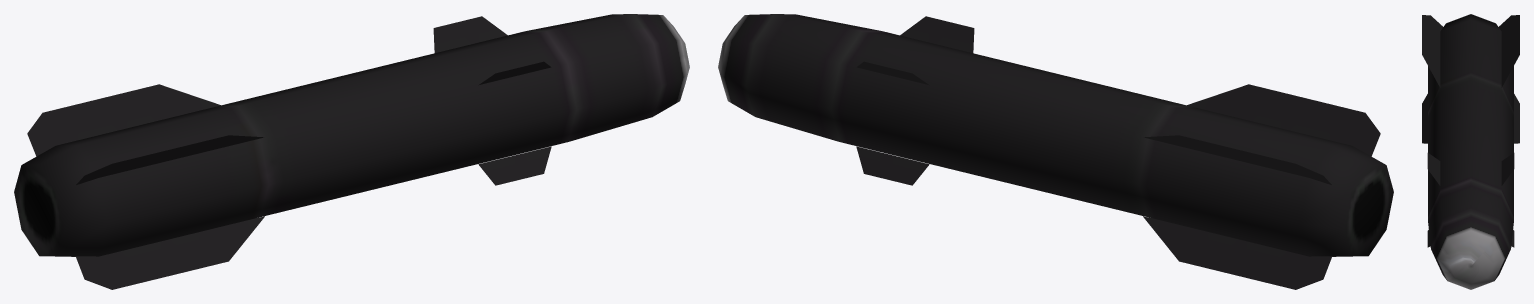
File: projectile_hellfire_missile_LOD0.obj
3 views of the same model, side by side, from view 1: azimuth 30°, elevation 25°; view 2: azimuth 150°, elevation 25°; view 3: azimuth 270°, elevation 25° (orthographic). The views are drawn at different scales.
Parts seen in each view (by area): view 1: mtl_hellfire_missile; view 2: mtl_hellfire_missile; view 3: mtl_hellfire_missile, mtl_hellfire_missile_alpha.
Part boxes in pixels (x1,y1,x2,y2): mtl_hellfire_missile: (14,14,686,289); mtl_hellfire_missile: (721,14,1393,289); mtl_hellfire_missile: (1422,14,1519,279); mtl_hellfire_missile_alpha: (1437,229,1504,289).
Bounding box in the file's own units: 164 × 30.8 × 30.8.
